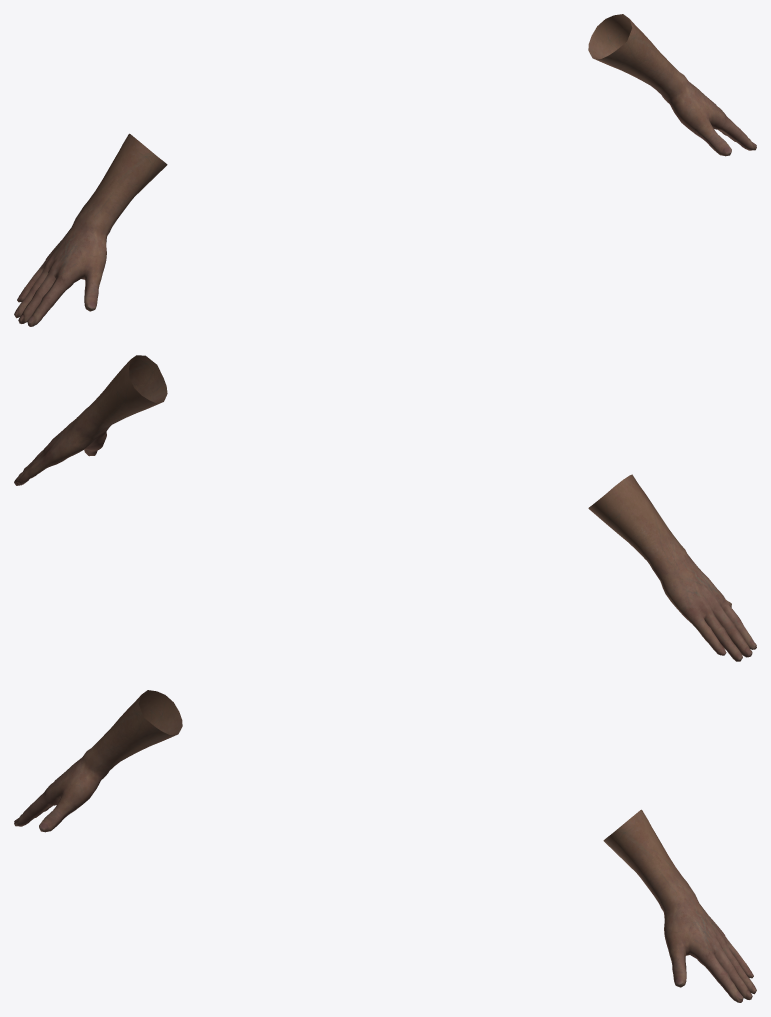
The model's file is Manos.glb.
3 views of the same model, one above another, from view 1: azimuth 30°, elevation 25°; view 2: azimuth 150°, elevation 25°; view 3: azimuth 330°, elevation 25° (orthographic).
Visible parts, largest first — view 1: #10#|P[FC_M_0000]_Body.matxml|mesh7, #11#|P[FC_M_0000]_Body.matxml|mesh8, #13#|P[FC_M_0000]_Body.matxml|mesh10; view 2: #10#|P[FC_M_0000]_Body.matxml|mesh7, #11#|P[FC_M_0000]_Body.matxml|mesh8, #13#|P[FC_M_0000]_Body.matxml|mesh10; view 3: #10#|P[FC_M_0000]_Body.matxml|mesh7, #13#|P[FC_M_0000]_Body.matxml|mesh10, #11#|P[FC_M_0000]_Body.matxml|mesh8.
Part boxes in pixels (x1,y1,x2,y2): #10#|P[FC_M_0000]_Body.matxml|mesh7: [89, 14, 675, 219]; #11#|P[FC_M_0000]_Body.matxml|mesh8: [14, 200, 116, 326]; #13#|P[FC_M_0000]_Body.matxml|mesh10: [651, 66, 756, 156]; #10#|P[FC_M_0000]_Body.matxml|mesh7: [88, 355, 675, 559]; #11#|P[FC_M_0000]_Body.matxml|mesh8: [645, 538, 756, 661]; #13#|P[FC_M_0000]_Body.matxml|mesh10: [14, 405, 111, 485]; #10#|P[FC_M_0000]_Body.matxml|mesh7: [95, 690, 681, 895]; #13#|P[FC_M_0000]_Body.matxml|mesh10: [654, 876, 756, 1002]; #11#|P[FC_M_0000]_Body.matxml|mesh8: [14, 742, 119, 832].
Size of the model in its own units: 1.37 by 0.2772 by 0.148.
Materials: 1 (1 with a texture image).
